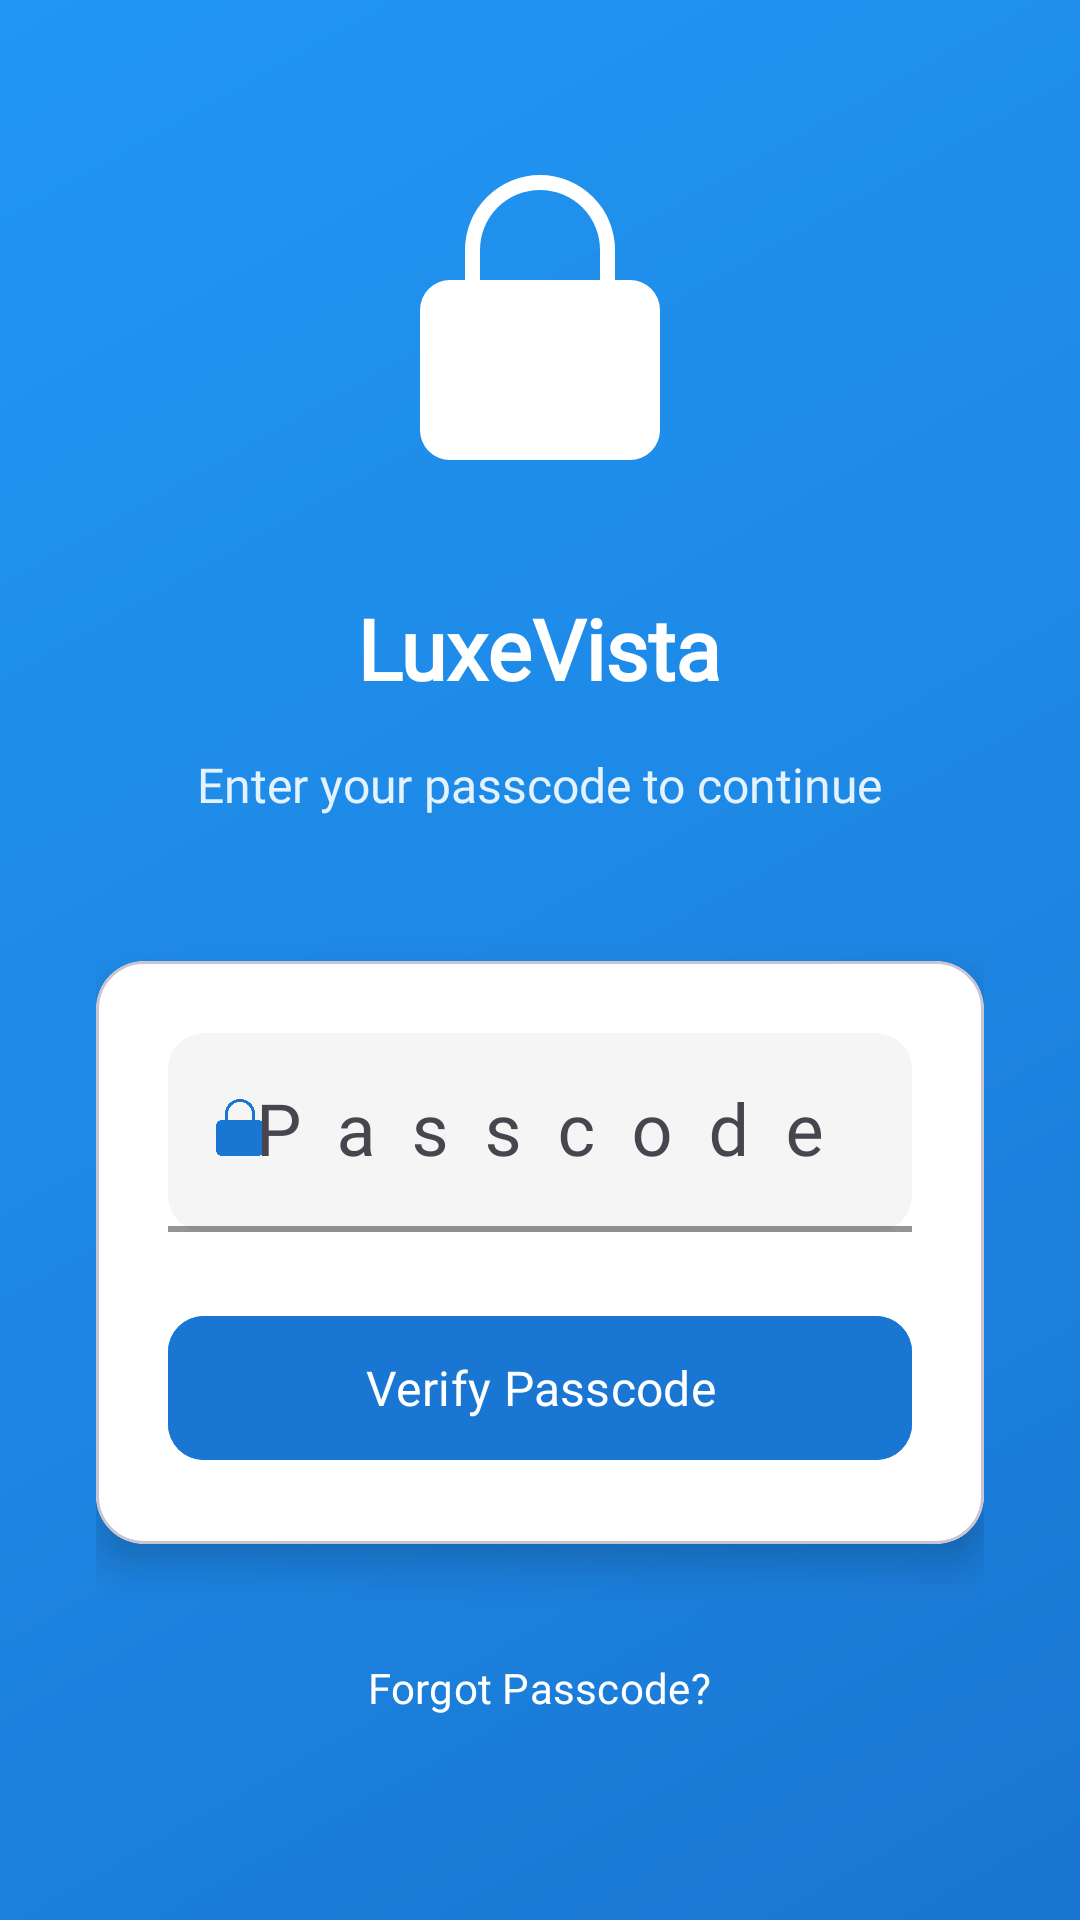

Icon bounding boxes for this 1080 × 1920 phone screenshot, format box(x1, y1, x2, y2):
Lock Icon: box(420, 175, 660, 460)
